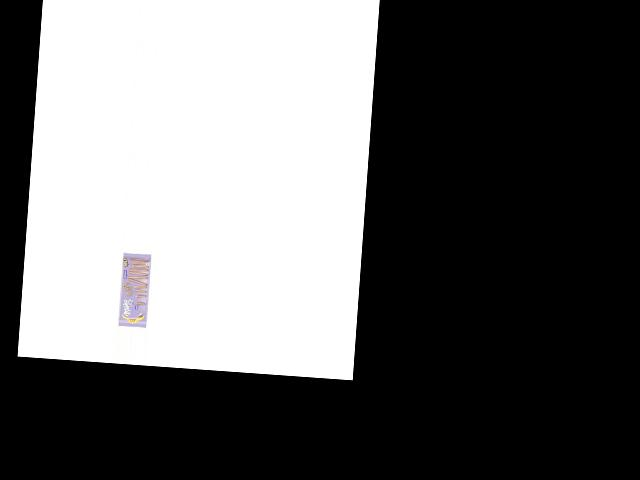chocolate: (117, 251, 155, 328)
